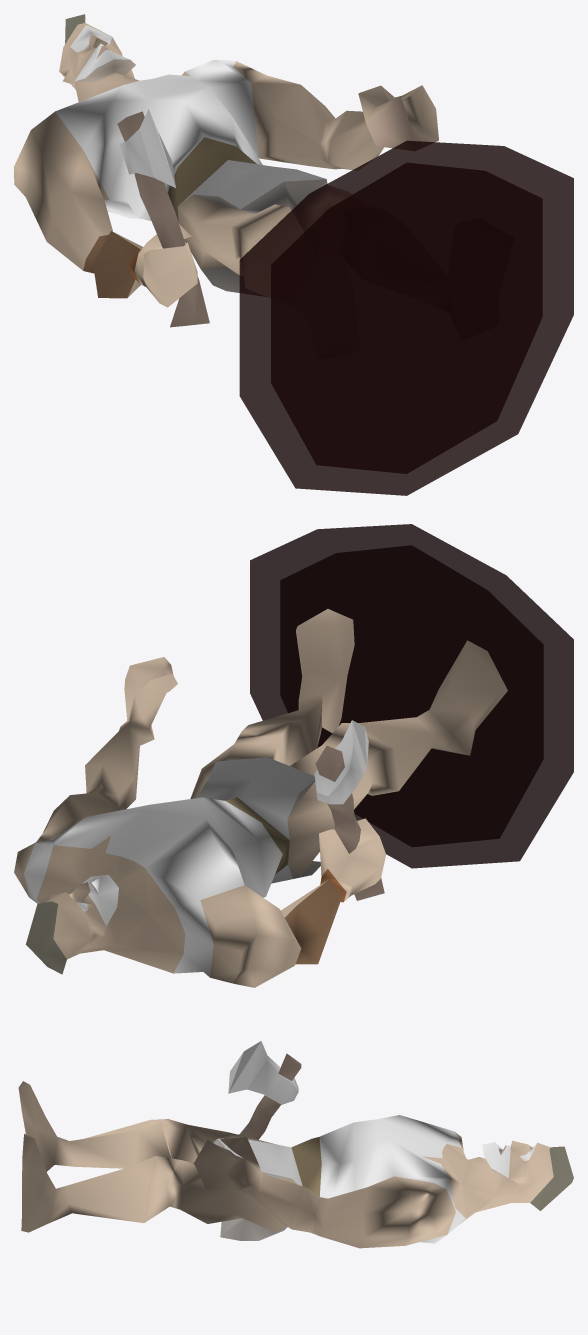
Rendered from giant-die.fbx.
The picture shows the model from 3 angles, top to bottom: view 1: azimuth 30°, elevation 25°; view 2: azimuth 150°, elevation 25°; view 3: azimuth 270°, elevation 25°; orthographic projection. The views are drawn at different scales.
Visible parts, largest first — view 1: Hill_Giant_2102_frame[0].007; view 2: Hill_Giant_2102_frame[0].007; view 3: Hill_Giant_2102_frame[0].007.
Part boxes in pixels (bbox=[...]): Hill_Giant_2102_frame[0].007: bbox=[14, 14, 573, 495]; Hill_Giant_2102_frame[0].007: bbox=[14, 524, 573, 987]; Hill_Giant_2102_frame[0].007: bbox=[18, 1041, 573, 1248].
Bounding box in the file's own units: 19200 × 19500 × 36019.
